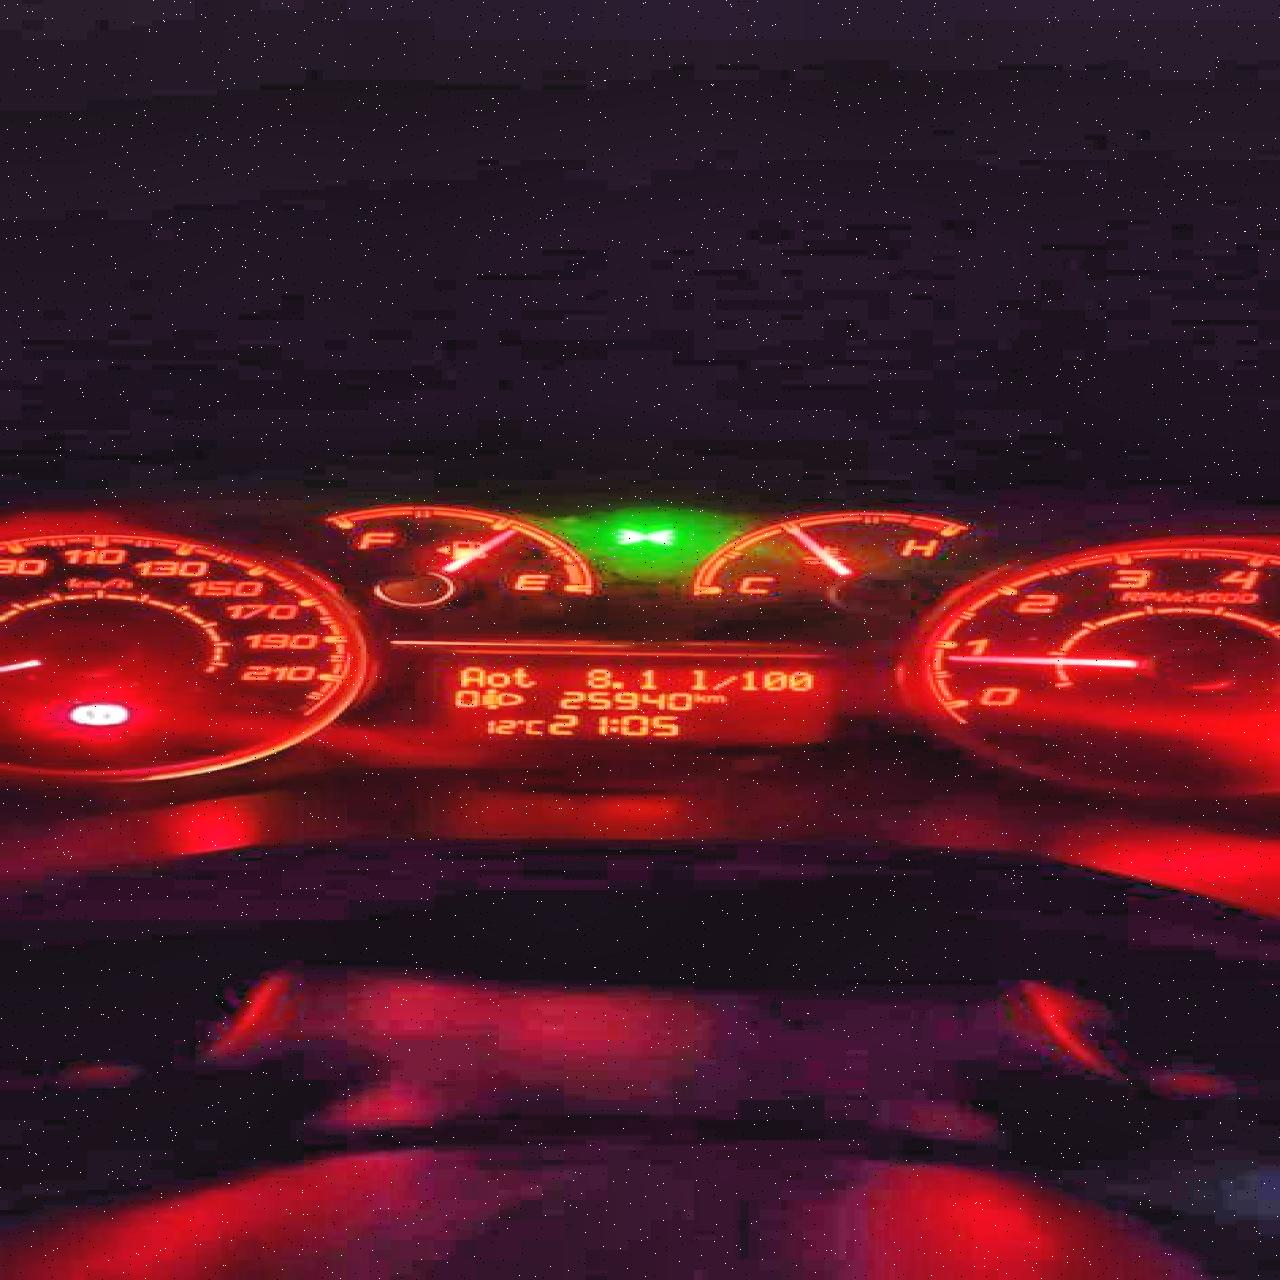-: (607, 680, 624, 689)
0: (619, 714, 646, 735), (450, 688, 477, 708), (762, 670, 787, 690), (787, 670, 811, 690), (665, 692, 692, 709)
1: (737, 670, 756, 690), (638, 667, 654, 688), (594, 715, 607, 734), (483, 719, 493, 733)
2: (545, 714, 576, 734), (556, 690, 583, 709), (493, 719, 516, 733)
4: (638, 693, 665, 708)
5: (648, 715, 678, 736), (584, 692, 607, 709)
8: (584, 667, 607, 688)
9: (610, 692, 636, 709)
X: (456, 665, 483, 687), (510, 667, 535, 688), (708, 674, 737, 690), (483, 672, 510, 687), (689, 669, 706, 690), (520, 719, 543, 734), (607, 717, 619, 731), (704, 694, 724, 702), (692, 692, 706, 701)
odometer: (423, 655, 840, 745)
